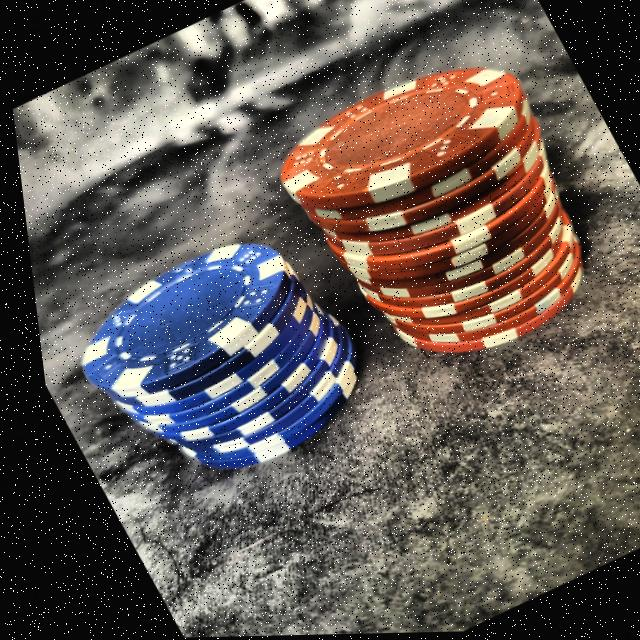Chip: (238, 19, 640, 398), (21, 182, 403, 530)
